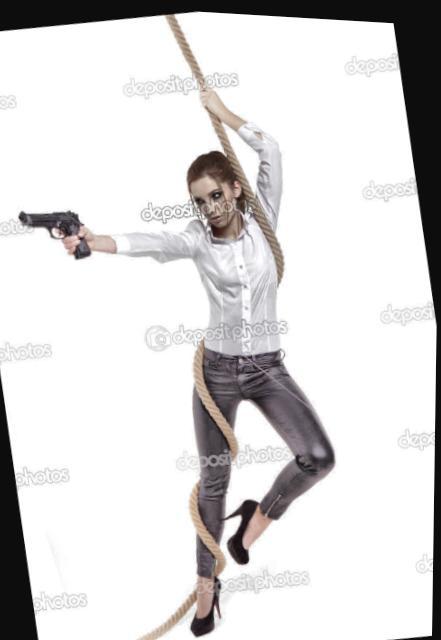pistol: (17, 196, 98, 270)
